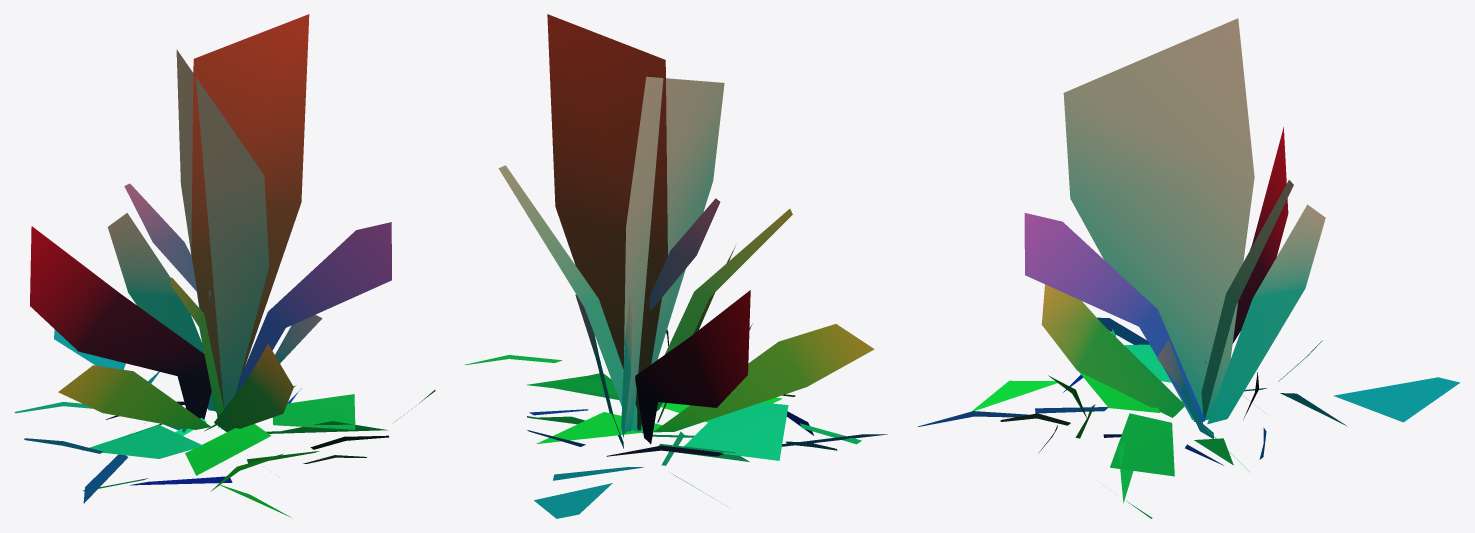
Rendered from Dead_Shrubs_vdknafgha_Low_vdknafgha_VarB_LOD2.fbx.
The picture shows the model from 3 angles, left to right: view 1: azimuth 30°, elevation 25°; view 2: azimuth 150°, elevation 25°; view 3: azimuth 270°, elevation 25°; orthographic projection. The views are drawn at different scales.
Parts seen in each view (by area): view 1: _zfip_VarB_LOD3; view 2: _zfip_VarB_LOD3; view 3: _zfip_VarB_LOD3.
Part boxes in pixels (box(x1,y1,x2,y2)): _zfip_VarB_LOD3: box(14, 14, 435, 517); _zfip_VarB_LOD3: box(464, 14, 887, 518); _zfip_VarB_LOD3: box(918, 18, 1459, 518).
Size of the model in its own units: 26.54 by 26.11 by 30.21.
